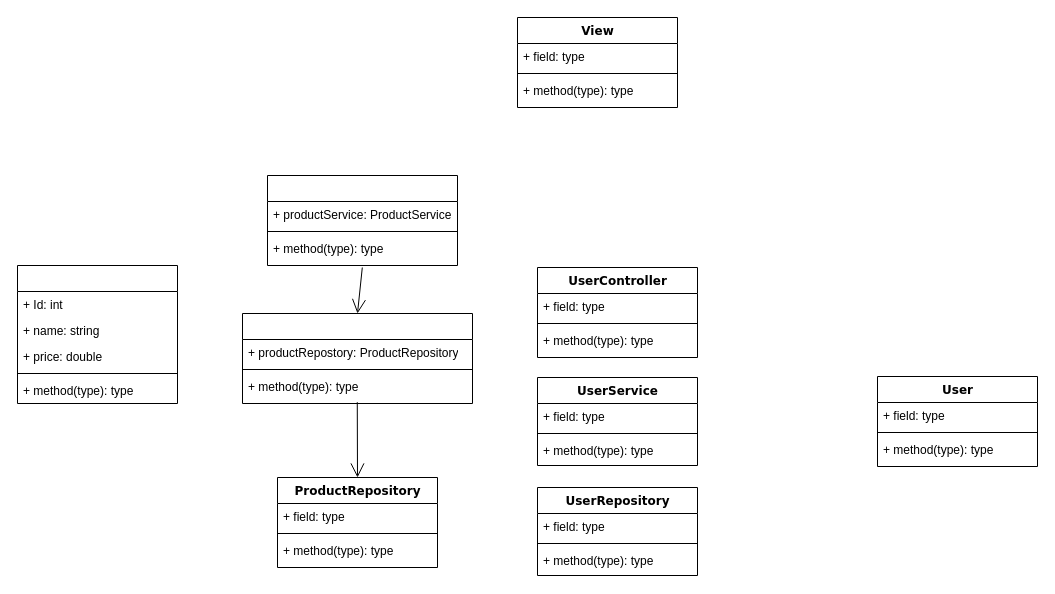
Some shapes in this 1055 by 594 pixel diagram are drawn without their labels. Here are the shapes that lost their labels. From the top down, the box of each, then its label:
(266, 174, 458, 266): ProductController
(16, 264, 178, 404): Product
(242, 312, 472, 404): ProductService
